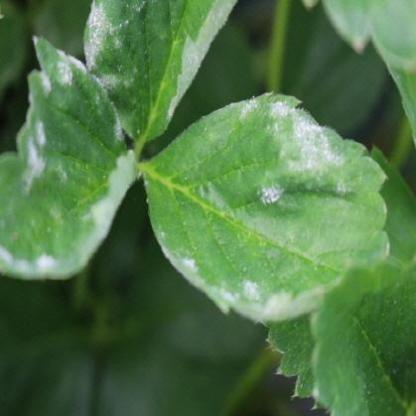Strawberry_Powdery_Mildew_Leaf: (139, 90, 392, 324), (0, 32, 139, 281), (80, 0, 240, 147)
